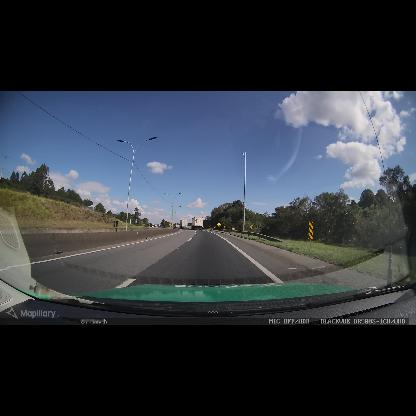A-32a: (169, 221, 173, 227), (217, 222, 221, 227)
O-MP: (308, 221, 313, 240)
